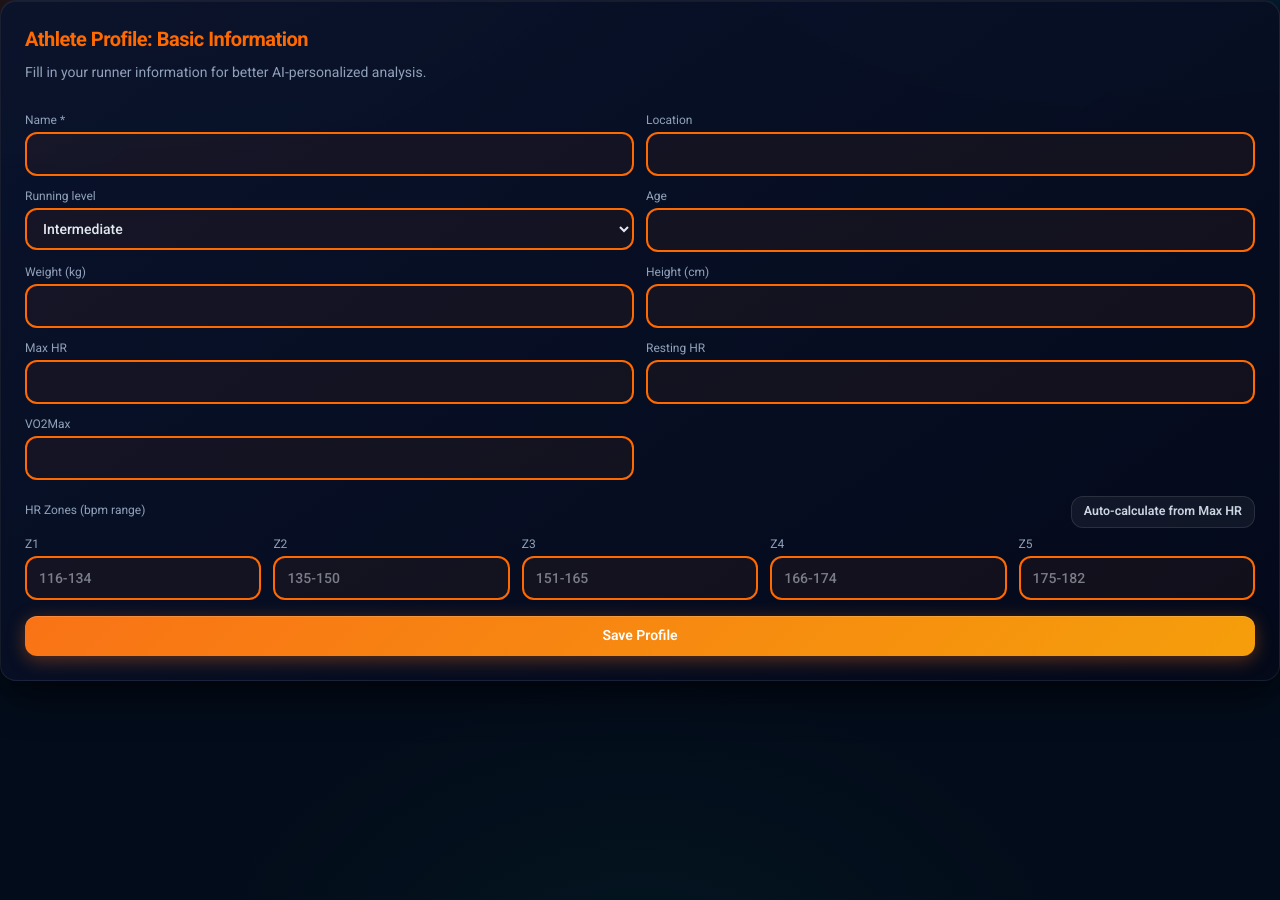
Test case: AthleteProfileForm › should show validation error when name is empty
The image size is (1280, 900).
Click the button "Save Profile".
click(640, 636)  # box [25,616,1255,656]
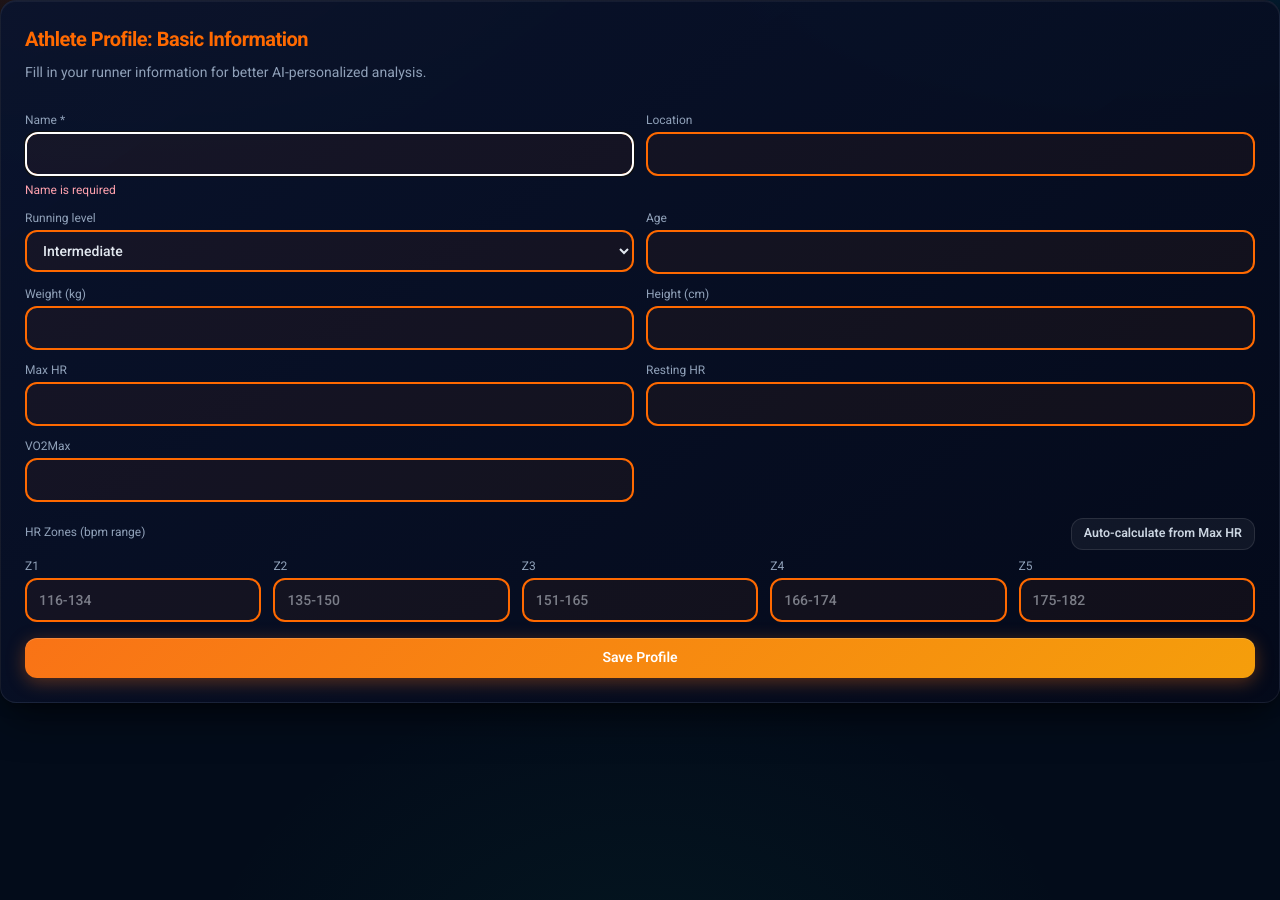
Now the text "Name is required" is shown, box [25,183,116,197]
